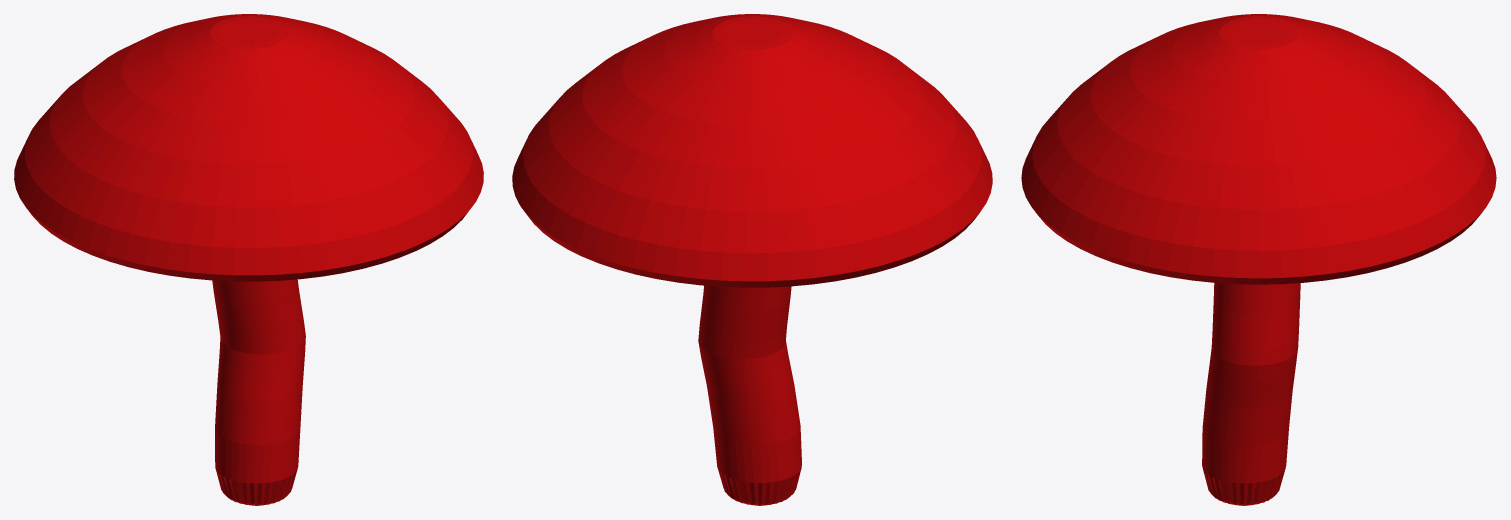
File: Champi.obj
The picture shows the model from 3 angles, left to right: view 1: azimuth 30°, elevation 25°; view 2: azimuth 150°, elevation 25°; view 3: azimuth 270°, elevation 25°; orthographic projection. The views are drawn at different scales.
Parts seen in each view (by area): view 1: Cylinder_Cylinder.001; view 2: Cylinder_Cylinder.001; view 3: Cylinder_Cylinder.001.
Boxes of the visible parts, left/top/right/bottom form: Cylinder_Cylinder.001: left=14, top=14, right=483, bottom=505; Cylinder_Cylinder.001: left=512, top=14, right=992, bottom=505; Cylinder_Cylinder.001: left=1021, top=14, right=1496, bottom=505.
Bounding box in the file's own units: 10.92 × 12.01 × 10.92.
